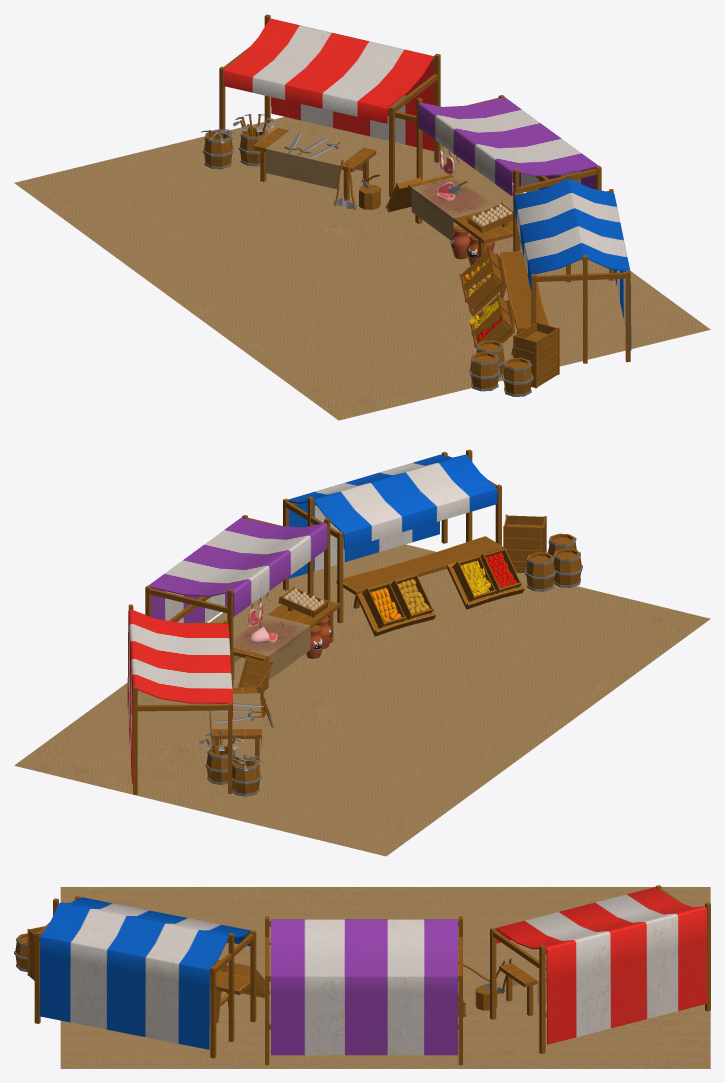
The model's file is Market.fbx.
3 views of the same model, one above another, from view 1: azimuth 30°, elevation 25°; view 2: azimuth 150°, elevation 25°; view 3: azimuth 270°, elevation 25° (orthographic).
Parts seen in each view (by area): view 1: Carpet, Stand_Tools, Stand_Meat, Stand_Vegetables, Caja, Barrel.002, Barrel, BoxSmall; view 2: Carpet, Stand_Vegetables, Stand_Meat, Stand_Tools, Caja, Barrel.001, Barrel.002, BoxSmall; view 3: Carpet, Stand_Meat, Stand_Vegetables, Stand_Tools, Barrel, Caja.
Boxes of the visible parts, x1=… form: Carpet: x1=14, y1=117, x2=710, y2=420; Stand_Tools: x1=201, y1=14, x2=440, y2=209; Stand_Meat: x1=408, y1=95, x2=601, y2=265; Stand_Vegetables: x1=459, y1=173, x2=631, y2=363; Caja: x1=513, y1=321, x2=559, y2=388; Barrel.002: x1=469, y1=352, x2=500, y2=391; Barrel: x1=502, y1=357, x2=533, y2=396; BoxSmall: x1=385, y1=177, x2=422, y2=212; Carpet: x1=14, y1=544, x2=710, y2=856; Stand_Vegetables: x1=283, y1=449, x2=524, y2=636; Stand_Meat: x1=145, y1=515, x2=340, y2=689; Stand_Tools: x1=127, y1=604, x2=274, y2=796; Caja: x1=503, y1=514, x2=546, y2=573; Barrel.001: x1=525, y1=552, x2=555, y2=591; Barrel.002: x1=553, y1=548, x2=582, y2=587; BoxSmall: x1=238, y1=656, x2=272, y2=695; Carpet: x1=60, y1=887, x2=710, y2=1068; Stand_Meat: x1=265, y1=916, x2=462, y2=1065; Stand_Vegetables: x1=34, y1=895, x2=270, y2=1058; Stand_Tools: x1=458, y1=885, x2=710, y2=1053; Barrel: x1=14, y1=933, x2=27, y2=971; Caja: x1=27, y1=926, x2=44, y2=980.
Bounding box in the file's own units: 1367 × 377 × 2214.
12 materials, 12 textured.
